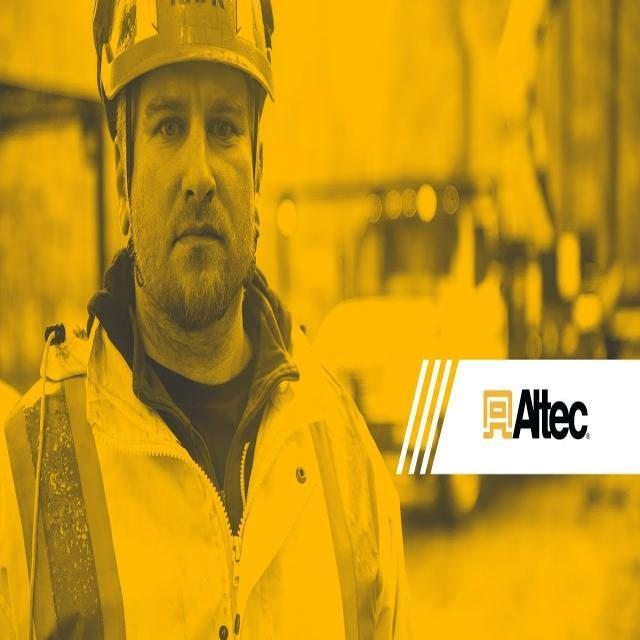reflective_jacket: (1, 306, 424, 634), (0, 354, 39, 639)
safety_helmet: (92, 0, 283, 106)
